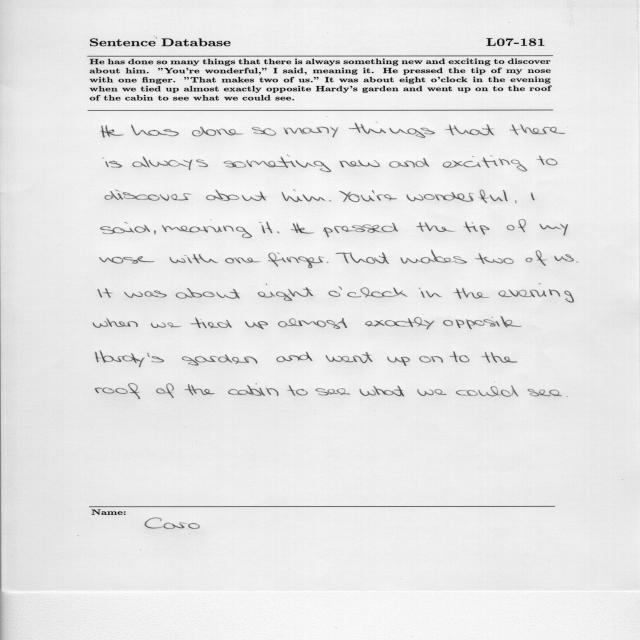word: (224, 155, 332, 172), (162, 220, 252, 239), (498, 284, 574, 303), (443, 156, 527, 172), (349, 123, 435, 138), (407, 190, 503, 203), (95, 351, 164, 368), (133, 156, 208, 170), (323, 223, 398, 237), (258, 283, 313, 301), (329, 286, 408, 298), (443, 317, 522, 329), (105, 190, 191, 201), (400, 250, 467, 264), (268, 253, 325, 268), (365, 317, 435, 329), (182, 355, 257, 366), (278, 318, 347, 329), (456, 385, 518, 397), (176, 288, 240, 299), (95, 384, 140, 399), (206, 190, 267, 201), (228, 383, 279, 396), (335, 252, 389, 264), (510, 124, 565, 135), (101, 222, 150, 234), (131, 125, 179, 137), (283, 127, 338, 137), (445, 125, 494, 136), (282, 190, 326, 202), (326, 352, 373, 363), (192, 127, 243, 137), (190, 317, 232, 329), (360, 386, 405, 397), (93, 318, 138, 328), (169, 254, 218, 263), (100, 256, 155, 264), (475, 253, 514, 264), (389, 158, 429, 168), (453, 288, 489, 299), (482, 352, 518, 363), (417, 222, 455, 232), (277, 352, 313, 362), (525, 250, 547, 266), (463, 222, 490, 235), (124, 290, 167, 298), (185, 384, 215, 395), (339, 160, 380, 168), (540, 224, 568, 235), (101, 125, 124, 138), (315, 388, 350, 396), (372, 190, 397, 201), (156, 383, 174, 398), (291, 223, 314, 234), (419, 287, 442, 298), (507, 220, 526, 233), (225, 257, 260, 264), (339, 191, 360, 202), (287, 385, 308, 396), (387, 356, 410, 366), (536, 156, 558, 166), (450, 352, 470, 363), (252, 127, 276, 136), (103, 157, 122, 168), (418, 389, 447, 396), (245, 321, 268, 329), (151, 322, 181, 328), (419, 356, 443, 363), (528, 389, 551, 396), (554, 254, 574, 262), (260, 222, 273, 233), (98, 288, 112, 298), (361, 195, 375, 201), (549, 390, 562, 396), (503, 190, 508, 201), (531, 193, 535, 201), (154, 230, 156, 235), (515, 200, 517, 203), (277, 231, 280, 233), (326, 262, 329, 263), (329, 200, 331, 201), (576, 262, 578, 263)
